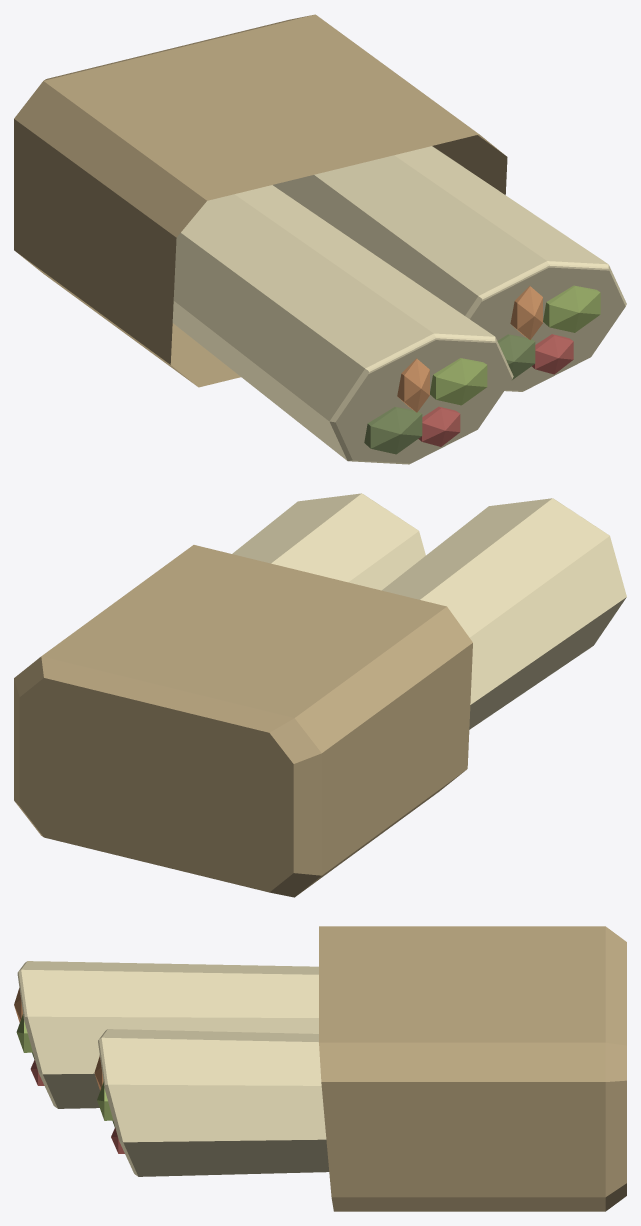
The model's file is wrap.glb.
3 views of the same model, one above another, from view 1: azimuth 30°, elevation 25°; view 2: azimuth 150°, elevation 25°; view 3: azimuth 270°, elevation 25° (orthographic). The views are drawn at different scales.
Visible parts, largest first — view 1: wrap; view 2: wrap; view 3: wrap.
Boxes of the visible parts, <box> form: wrap: <box>14,14,626,464</box>; wrap: <box>14,493,626,897</box>; wrap: <box>14,926,626,1211</box>.
Bounding box in the file's own units: 0.082 × 0.0457 × 0.1448.
